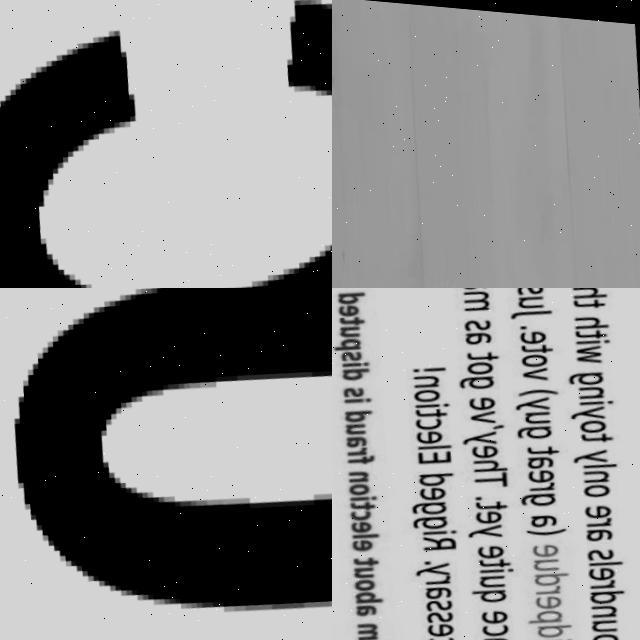0: (0, 288, 332, 640)
A: (429, 576, 462, 595), (589, 516, 621, 534), (531, 445, 561, 463), (467, 322, 497, 340), (536, 505, 566, 521), (364, 596, 390, 613), (348, 428, 374, 445)
B: (363, 584, 392, 600)
C: (0, 26, 140, 288), (420, 409, 450, 427), (490, 614, 518, 632), (436, 627, 466, 640), (356, 505, 380, 517), (599, 633, 631, 640)
D: (539, 561, 579, 581), (545, 612, 583, 632), (425, 462, 463, 482), (598, 578, 634, 597), (346, 361, 378, 378), (349, 403, 381, 419), (340, 288, 369, 301)
E: (423, 441, 459, 460), (418, 422, 451, 441), (487, 599, 518, 619), (479, 500, 510, 520), (537, 532, 569, 551), (471, 387, 503, 406), (423, 478, 455, 497), (483, 534, 514, 553), (476, 435, 507, 454), (434, 614, 465, 633), (590, 493, 622, 511), (595, 555, 625, 573), (542, 585, 572, 603), (532, 458, 562, 476), (522, 320, 552, 338), (340, 297, 366, 314), (357, 513, 381, 530), (357, 534, 383, 548)
F: (351, 448, 383, 462)
G: (570, 360, 610, 379), (526, 482, 564, 502), (522, 415, 560, 435), (420, 506, 457, 526), (463, 366, 501, 385), (419, 492, 456, 511)
H: (478, 448, 516, 468), (578, 303, 614, 323), (575, 288, 611, 292)
I: (547, 627, 584, 638), (578, 327, 614, 338), (429, 520, 465, 531), (487, 558, 521, 569), (584, 388, 621, 398), (419, 394, 455, 404), (348, 390, 377, 400), (357, 489, 385, 498), (348, 355, 374, 364), (365, 634, 396, 640)
J: (514, 298, 557, 315)
L: (597, 548, 632, 559), (424, 436, 459, 446), (589, 451, 623, 461), (360, 526, 388, 535)
M: (464, 288, 493, 305), (366, 617, 388, 636)
N: (599, 592, 628, 610), (588, 457, 616, 475), (582, 375, 610, 391), (417, 367, 445, 383), (491, 626, 519, 640), (353, 465, 377, 480)
O: (588, 472, 618, 490), (418, 380, 448, 398), (525, 344, 554, 362), (602, 621, 630, 639), (584, 408, 612, 426), (470, 352, 498, 370), (360, 571, 384, 588), (355, 476, 379, 493)
P: (537, 599, 571, 618), (335, 332, 367, 348)
Q: (477, 579, 517, 600)
R: (430, 526, 466, 546), (543, 574, 572, 588), (431, 566, 460, 580), (596, 567, 624, 581), (592, 505, 620, 519), (536, 471, 561, 484), (353, 440, 377, 453)
S: (466, 309, 496, 327), (434, 602, 464, 620), (433, 590, 463, 608), (594, 538, 622, 553), (343, 344, 369, 359), (346, 380, 371, 394)
T: (478, 461, 517, 483), (531, 434, 567, 450), (419, 398, 455, 414), (585, 420, 620, 436), (481, 489, 516, 505), (524, 333, 560, 348), (469, 341, 504, 356), (576, 288, 609, 302), (486, 548, 519, 562), (578, 318, 610, 332), (356, 493, 386, 507), (360, 550, 388, 564), (343, 310, 370, 323)
U: (529, 401, 559, 419), (600, 607, 628, 624), (540, 549, 568, 565), (487, 565, 513, 582), (519, 288, 549, 302), (349, 416, 373, 433), (342, 319, 366, 336), (359, 560, 383, 575)
V: (525, 357, 554, 375), (473, 401, 502, 418), (545, 633, 575, 640)
W: (578, 334, 607, 358)
Y: (465, 421, 505, 441), (519, 385, 557, 406), (473, 514, 511, 535), (575, 394, 611, 415), (422, 553, 459, 573), (577, 437, 615, 456)
